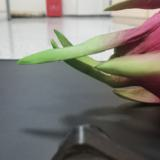pitaya: (49, 1, 160, 102)
